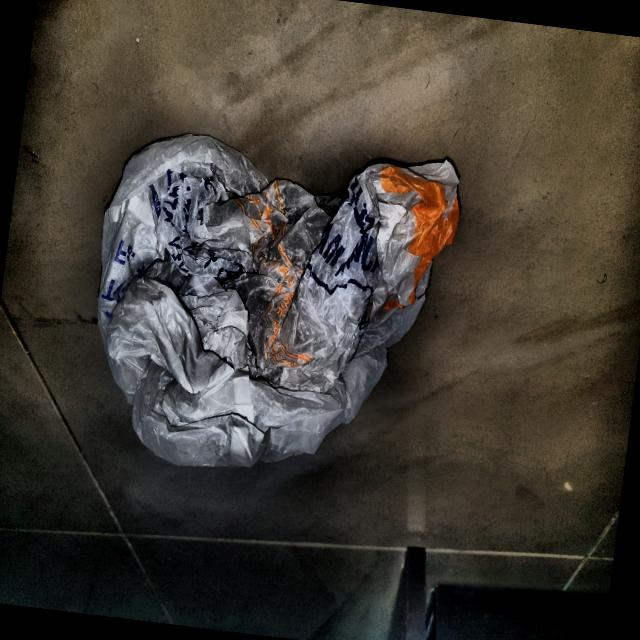plastic bag: (58, 96, 478, 522)
